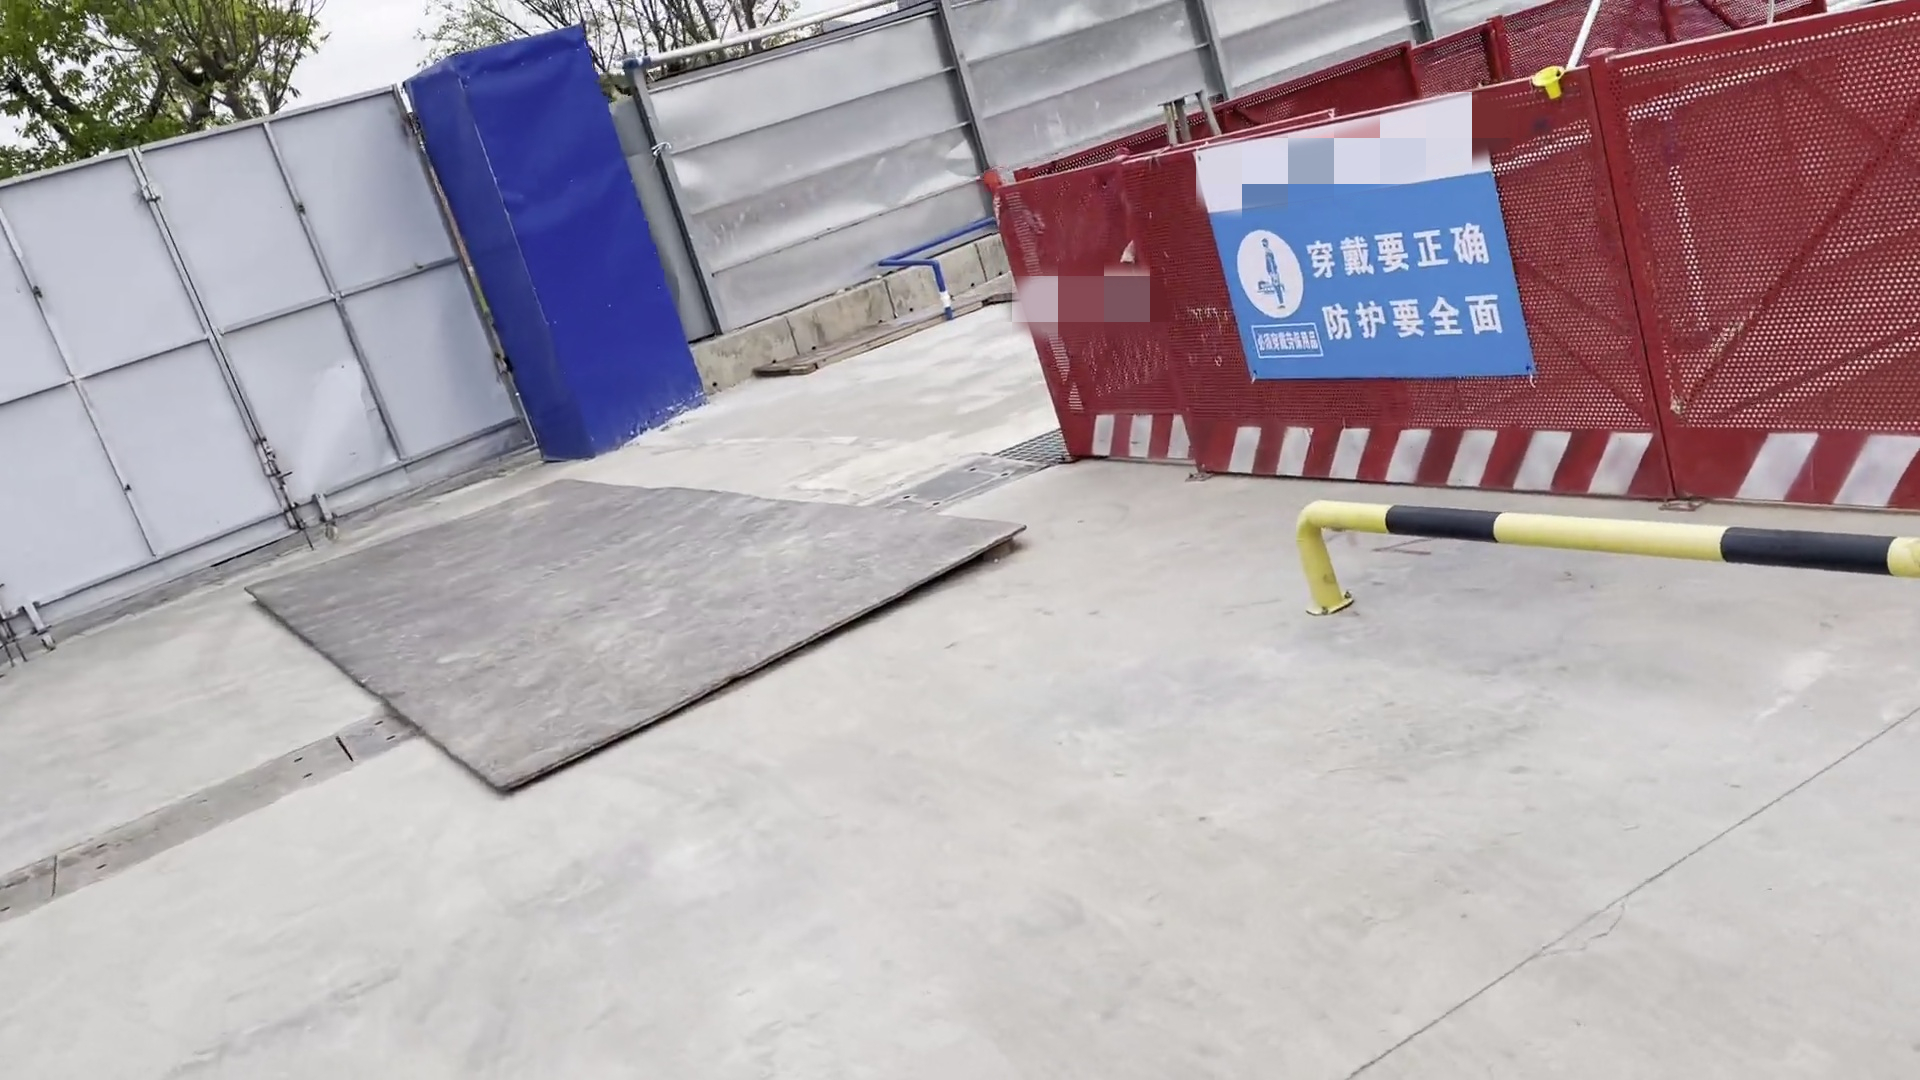fence: (980, 1, 1920, 512)
slogan: (1184, 149, 1549, 411)
